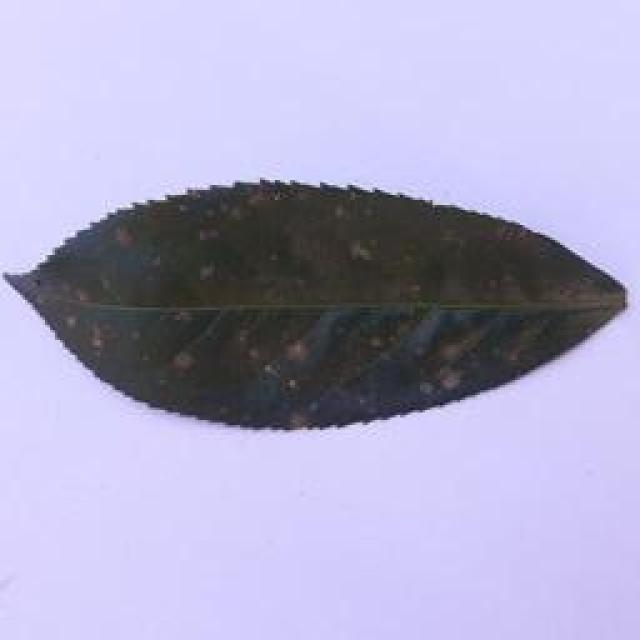Algal Leaf Spot: (2, 165, 640, 450)
